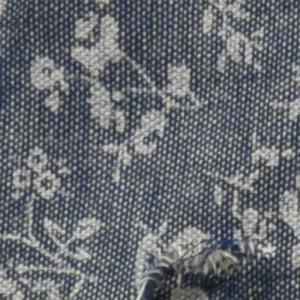Damage: (134, 239, 273, 300)
